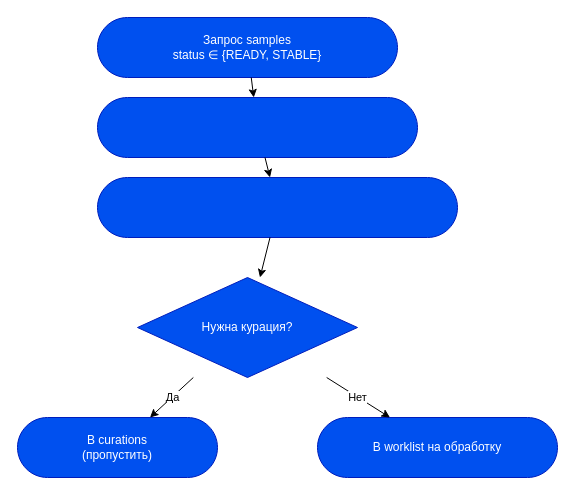
Some shapes in this 575 by 495 pixel diagram are drawn without their labels. The shapes that lost their labels are listed below. From the top down, each one's centre as x and y in pixels, then its label:
At point (257, 127): "Фильтр по FileSubset (fast5/pod5/fq, PASS)".
At point (277, 207): "Дебаунс / стабильный отпечаток (no events T seconds)".
